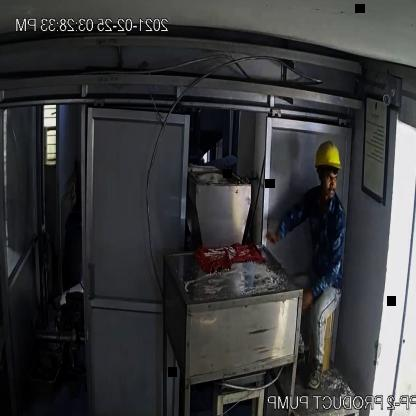helmet: (312, 136, 347, 177)
